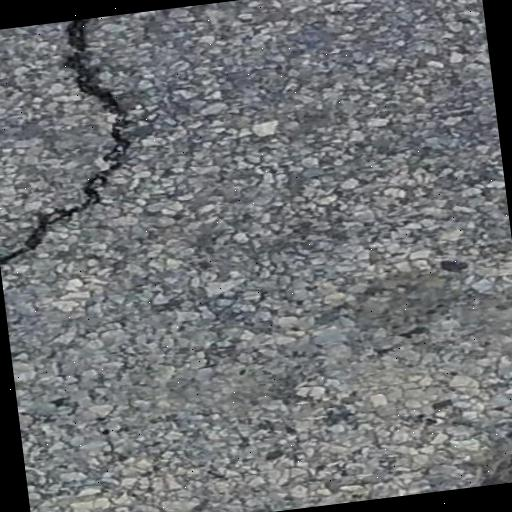spalling: (7, 31, 143, 278)
